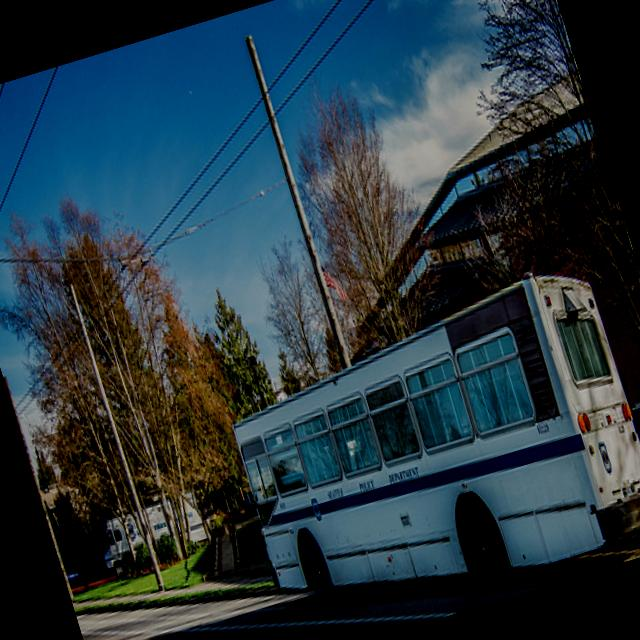Vehicle: (210, 257, 640, 640), (92, 484, 224, 582)
